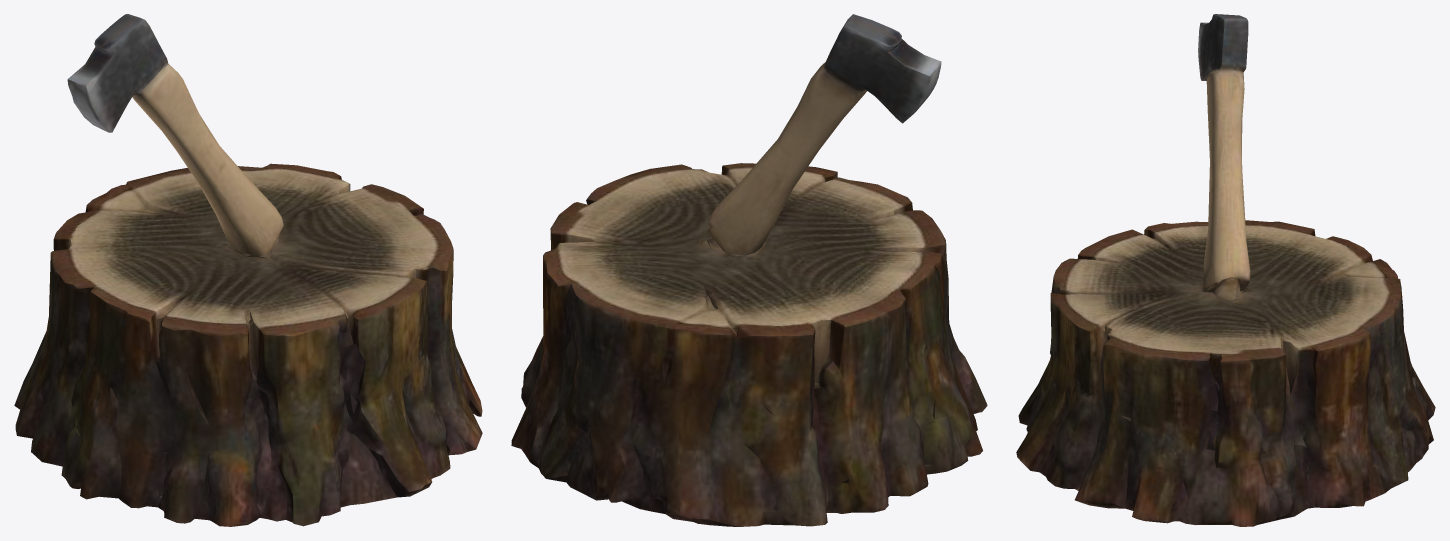
Rendered from stump.glb.
3 renders of one model, left to right at view 1: azimuth 30°, elevation 25°; view 2: azimuth 150°, elevation 25°; view 3: azimuth 270°, elevation 25°, orthographic. The views are drawn at different scales.
Visible parts, largest first — view 1: stump; view 2: stump; view 3: stump.
Part boxes in pixels (x1,y1,x2,y2): stump: (14, 14, 482, 526); stump: (511, 14, 987, 526); stump: (1016, 14, 1435, 526).
Size of the model in its own units: 0.7252 by 0.75 by 0.7482.
1 material, 1 textured.
